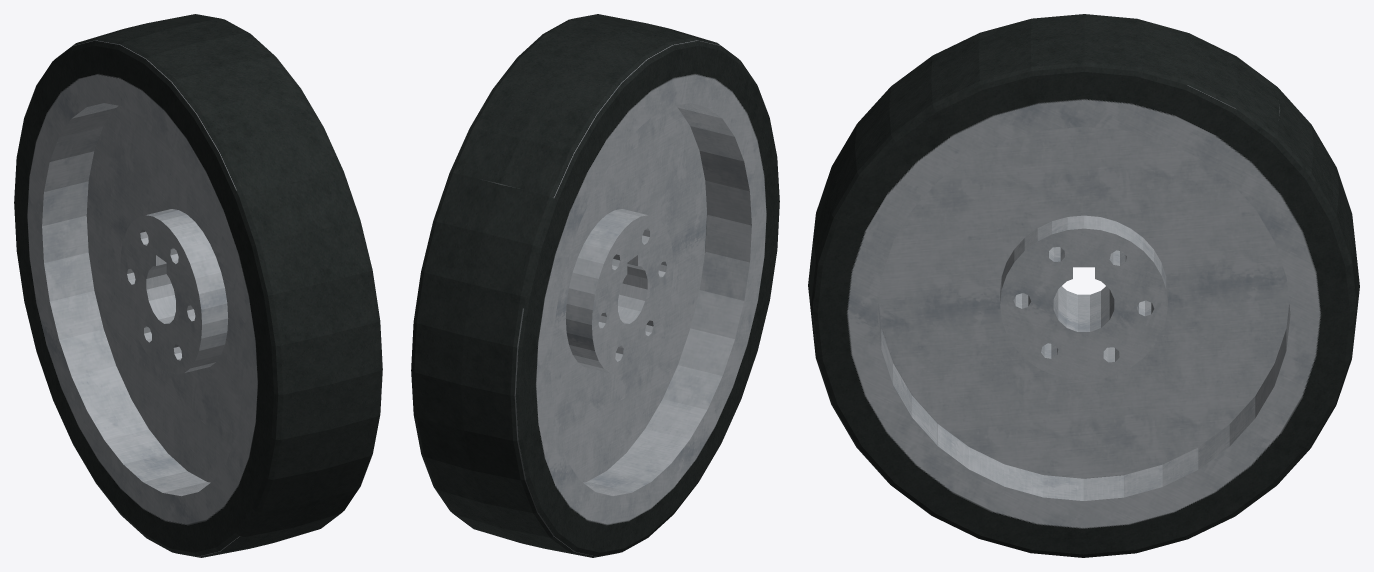
Rendered from AMR100_drive_wheel.obj.
3 views of the same model, side by side, from view 1: azimuth 30°, elevation 25°; view 2: azimuth 150°, elevation 25°; view 3: azimuth 270°, elevation 25° (orthographic). The views are drawn at different scales.
Visible parts, largest first — view 1: Drive_wheel; view 2: Drive_wheel; view 3: Drive_wheel.
Boxes of the visible parts, left/top/right/bottom form: Drive_wheel: left=14, top=14, right=382, bottom=557; Drive_wheel: left=411, top=14, right=779, bottom=557; Drive_wheel: left=808, top=14, right=1359, bottom=557.
Size of the model in its own units: 0.03 by 0.125 by 0.125.
